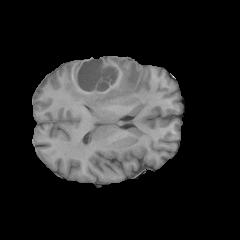glioma: (55, 57, 143, 110)
